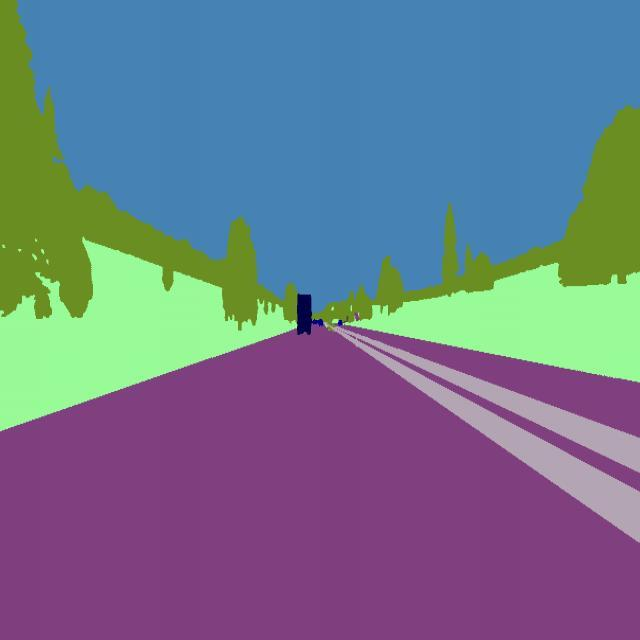safe: (294, 290, 314, 340)
